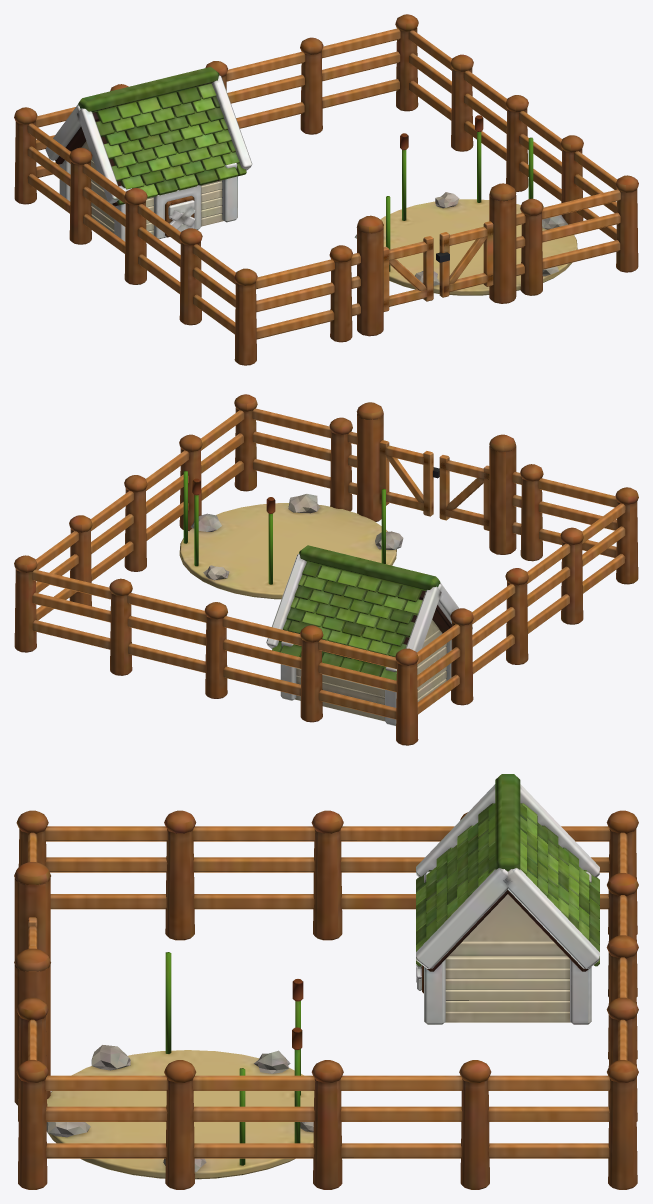
Rendered from runner_pen.glb.
The picture shows the model from 3 angles, top to bottom: view 1: azimuth 30°, elevation 25°; view 2: azimuth 150°, elevation 25°; view 3: azimuth 270°, elevation 25°; orthographic projection. The views are drawn at different scales.
Parts seen in each view (by area): view 1: runner_pen, gate1, gate0; view 2: runner_pen, gate1, gate0; view 3: runner_pen.
Boxes of the visible parts, x1,y1,x2,y2 form: runner_pen: (14, 14, 638, 365); gate1: (436, 221, 493, 297); gate0: (383, 236, 433, 311); runner_pen: (14, 394, 638, 745); gate1: (379, 440, 439, 516); gate0: (439, 455, 489, 530); runner_pen: (14, 774, 638, 1189).
Size of the model in its own units: 2 by 0.615 by 2.01.
Materials: 1 (1 with a texture image).
